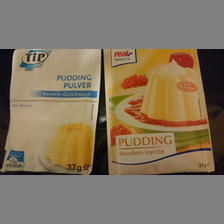cake: (103, 48, 217, 175), (4, 47, 101, 174)
